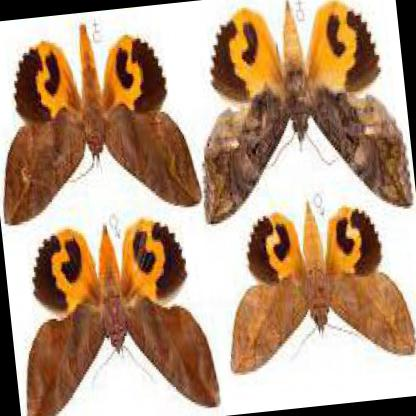fruit sucking moth: (203, 0, 411, 226), (3, 21, 204, 225), (28, 217, 222, 416), (231, 201, 415, 374)
